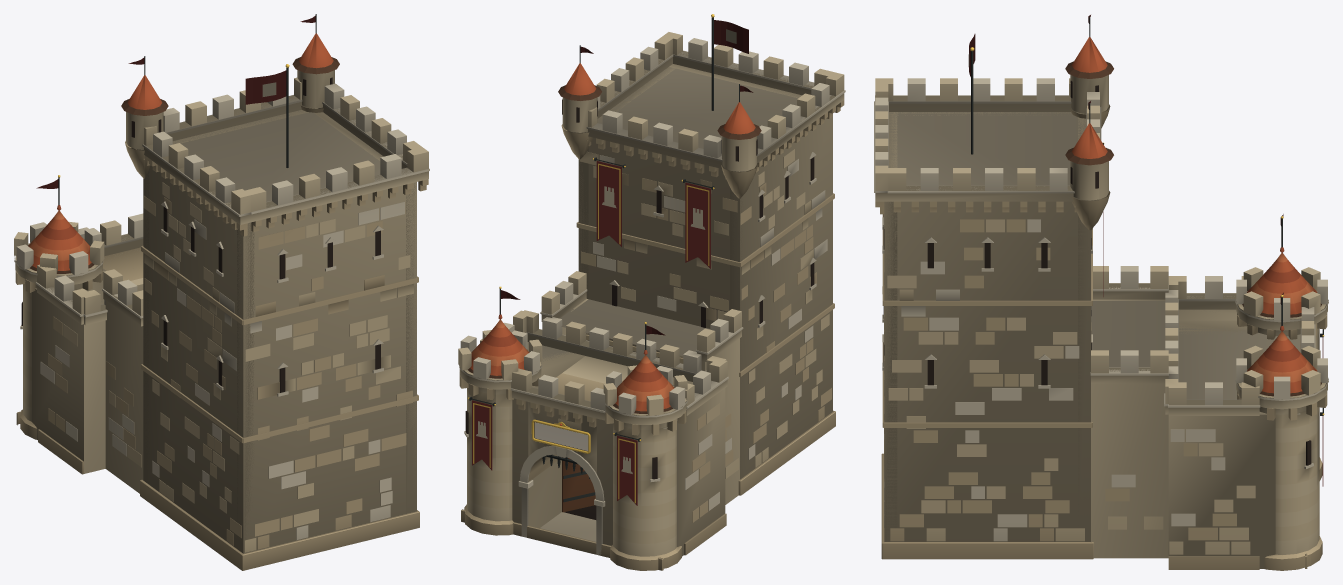
File: pav_fort.glb
3 views of the same model, side by side, from view 1: azimuth 30°, elevation 25°; view 2: azimuth 150°, elevation 25°; view 3: azimuth 270°, elevation 25° (orthographic). The views are drawn at different scales.
Parts seen in each view (by area): view 1: static_keep, static_fort; view 2: static_keep, static_fort; view 3: static_keep, static_fort.
Boxes of the visible parts, left/top/right/bottom form: static_keep: left=121, top=14, right=429, bottom=570; static_fort: left=14, top=175, right=143, bottom=493; static_keep: left=558, top=14, right=845, bottom=495; static_fort: left=458, top=271, right=743, bottom=570; static_keep: left=874, top=15, right=1113, bottom=559; static_fort: left=1090, top=214, right=1328, bottom=570.
Bounding box in the file's own units: 10.82 × 19.97 × 17.61.
